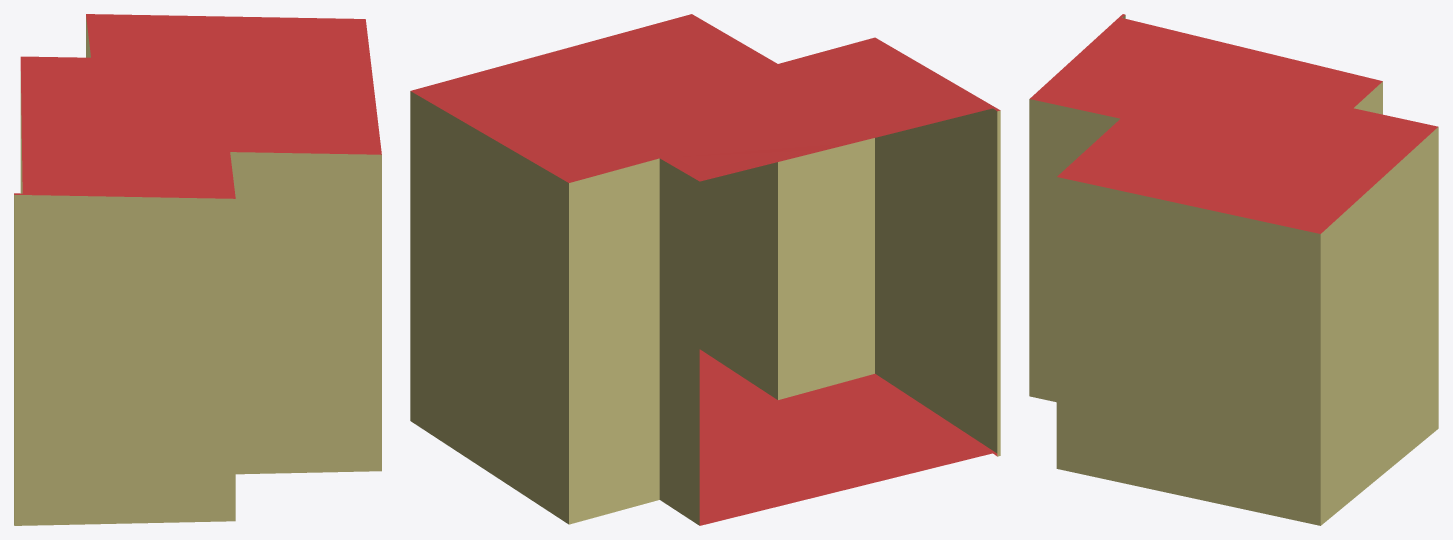
3 views of the same model, side by side, from view 1: azimuth 30°, elevation 25°; view 2: azimuth 150°, elevation 25°; view 3: azimuth 270°, elevation 25° (orthographic). The views are drawn at different scales.
Visible parts, largest first — view 1: group_4, group_3; view 2: group_4, group_3, group_5; view 3: group_4, group_3.
Part boxes in pixels (x1,y1,x2,y2): group_4: (14, 16, 381, 525); group_3: (14, 14, 381, 198); group_4: (410, 91, 1000, 525); group_3: (411, 14, 1000, 182); group_5: (699, 349, 997, 525); group_4: (1029, 15, 1438, 525); group_3: (1030, 14, 1437, 233).
Size of the model in its own units: 10.46 by 8.75 by 7.21.
